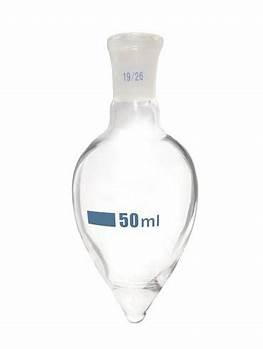Pear shaped flask: (70, 35, 198, 324)
